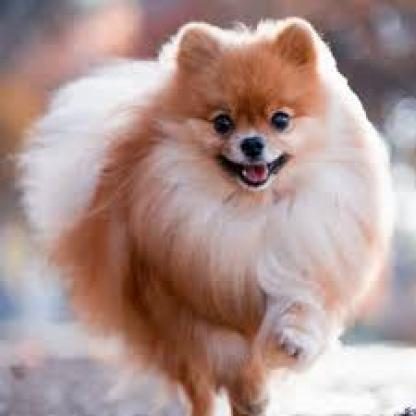Pomeranian: (8, 12, 397, 402)
